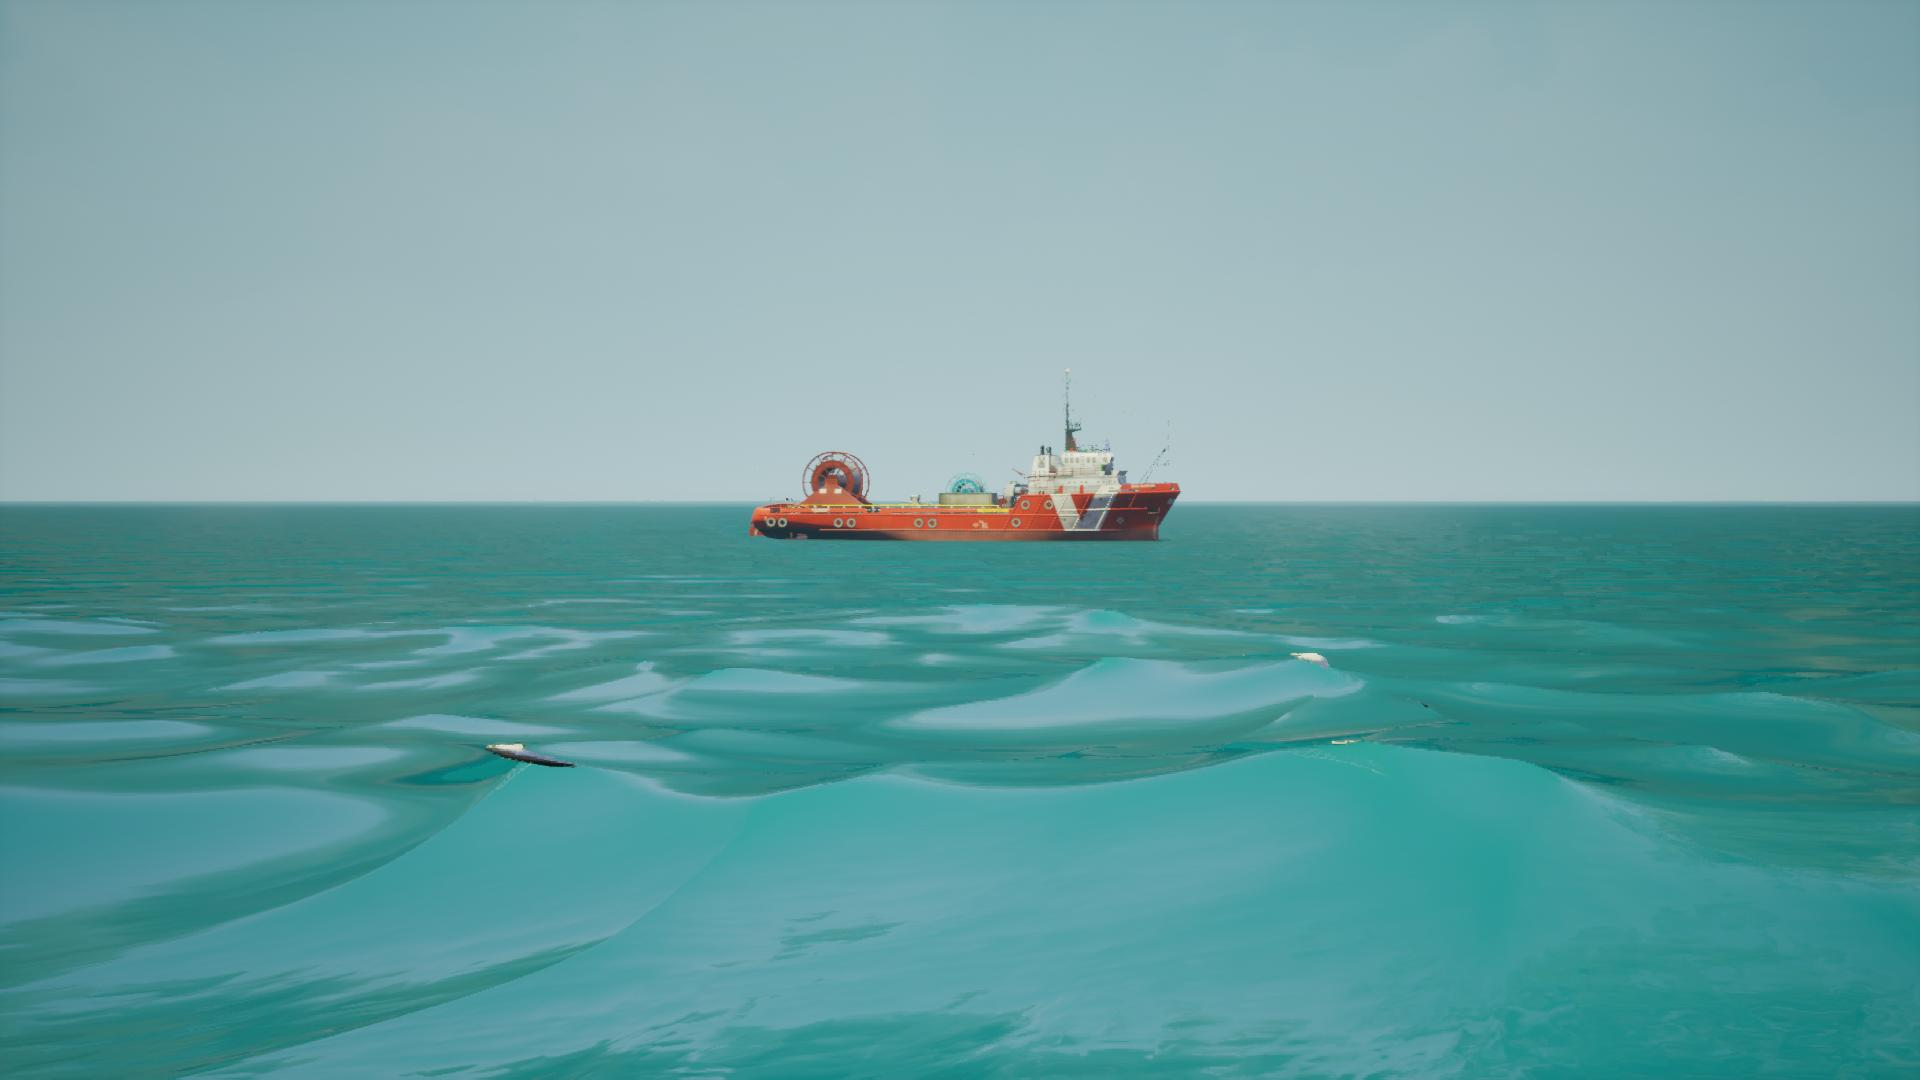Tug Boat: (750, 367, 1185, 546)
